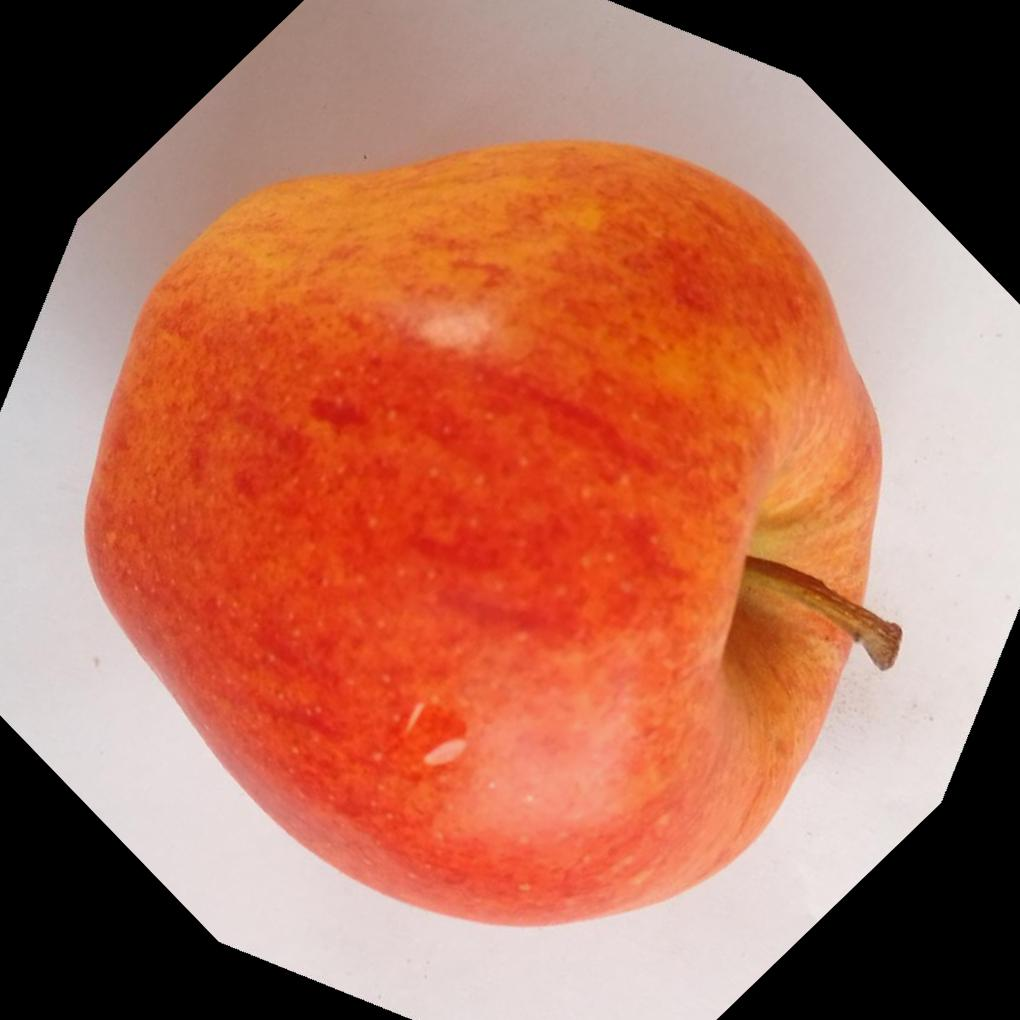FreshGuava: (76, 137, 901, 933)
